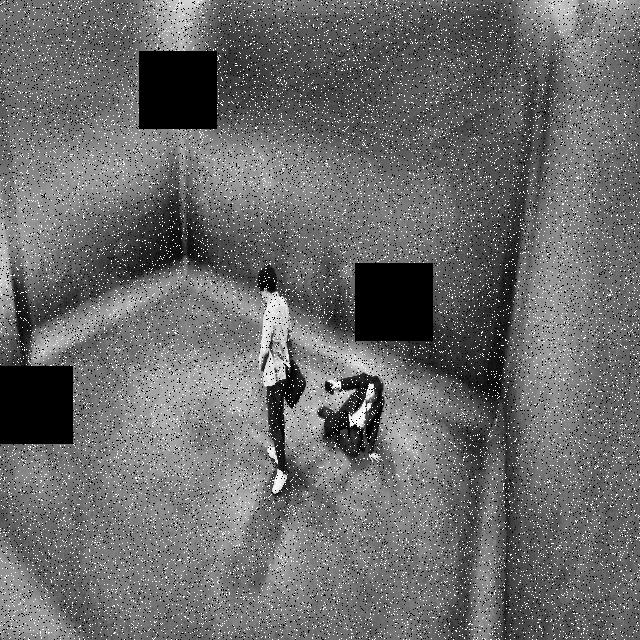assult: (251, 252, 399, 488), (313, 360, 392, 470)
